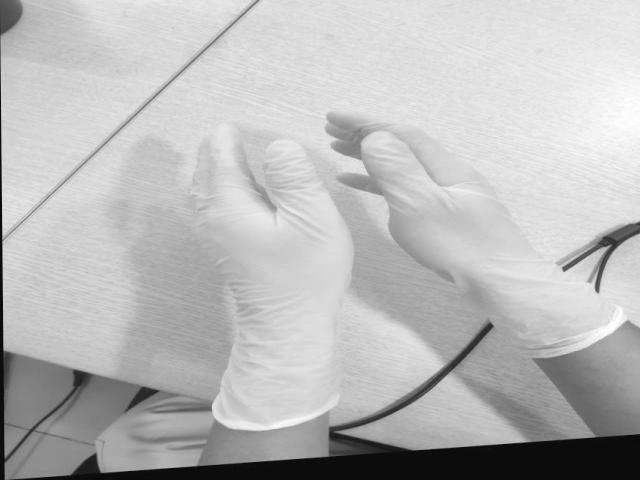gloved: (328, 106, 538, 272), (194, 123, 356, 320)
